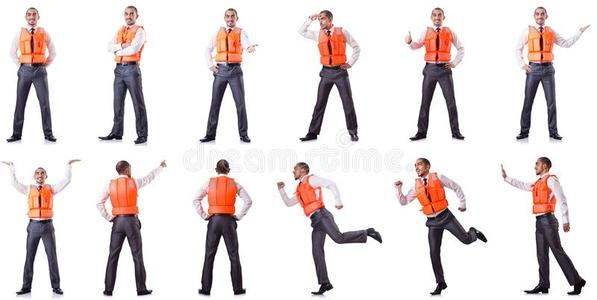reflective_clothes: (411, 167, 452, 223), (108, 170, 144, 221), (204, 171, 241, 219), (211, 21, 247, 68), (315, 24, 351, 68), (423, 21, 456, 69), (293, 174, 329, 217), (112, 20, 144, 68), (17, 21, 50, 67), (25, 177, 57, 223), (525, 22, 557, 65), (530, 173, 561, 217)
